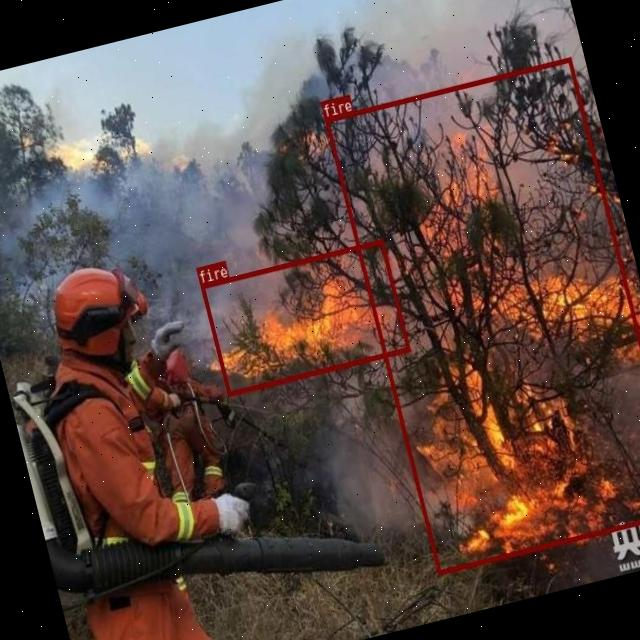fire: (324, 56, 640, 574), (200, 238, 410, 396)
